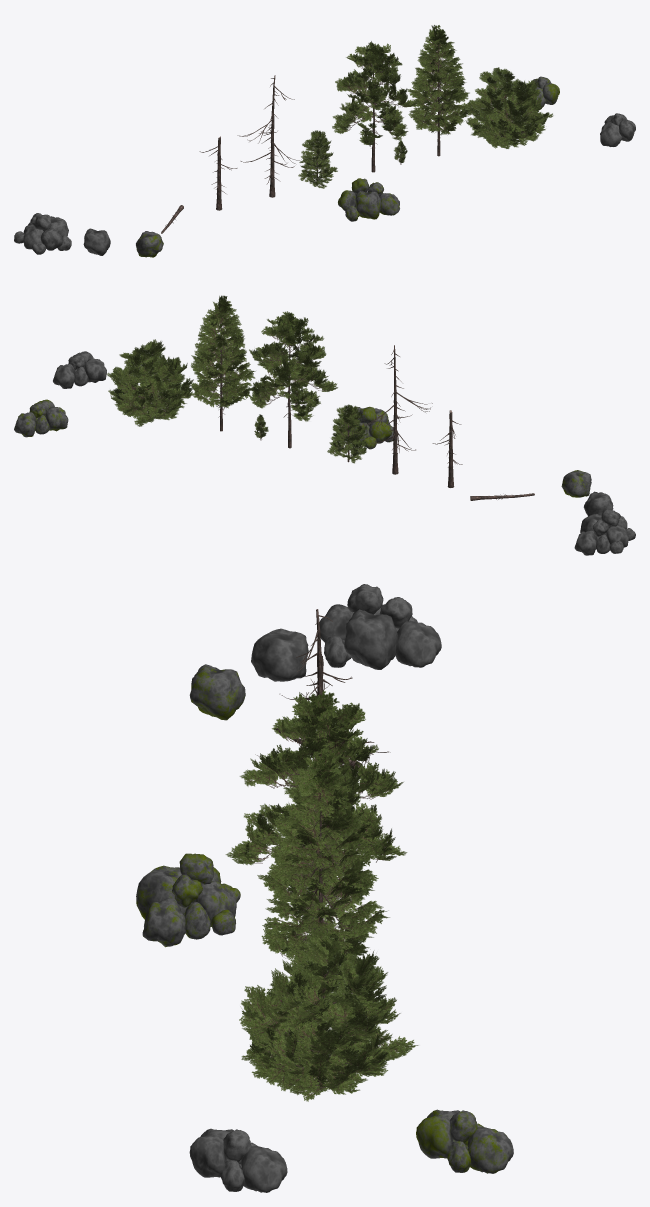
File: coniferous_pack.glb
The picture shows the model from 3 angles, top to bottom: view 1: azimuth 30°, elevation 25°; view 2: azimuth 150°, elevation 25°; view 3: azimuth 270°, elevation 25°; orthographic projection. The views are drawn at different scales.
Parts seen in each view (by area): view 1: PineTree_1, ConiferousShrub_3, FirTree_0, BoulderOutcropMossyLarge_9, BoulderOutcropPlainLarge_11, NobleFirTree_2, BoulderOutcropPlainMedium_12, Coniferous Dead Tree_6, BoulderPlainLarge_13, BoulderMossyLarge_8, BoulderOutcropMossyMedium_10, Coniferous Dead Tree 2_7; view 2: PineTree_1, FirTree_0, ConiferousShrub_3, BoulderOutcropPlainLarge_11, NobleFirTree_2, BoulderOutcropMossyMedium_10, BoulderOutcropPlainMedium_12, BoulderOutcropMossyLarge_9, Coniferous Dead Tree_6, BoulderMossyLarge_8, BoulderPlainLarge_13, Coniferous Dead Tree 2_7; view 3: ConiferousShrub_3, FirTree_0, PineTree_1, BoulderOutcropPlainLarge_11, BoulderOutcropMossyLarge_9, BoulderOutcropPlainMedium_12, BoulderOutcropMossyMedium_10, BoulderPlainLarge_13, BoulderMossyLarge_8.
Boxes of the visible parts, left/top/right/bottom form: PineTree_1: left=332, top=41, right=418, bottom=172; ConiferousShrub_3: left=461, top=67, right=553, bottom=148; FirTree_0: left=408, top=25, right=470, bottom=156; BoulderOutcropMossyLarge_9: left=338, top=178, right=399, bottom=221; BoulderOutcropPlainLarge_11: left=14, top=213, right=71, bottom=254; NobleFirTree_2: left=298, top=130, right=337, bottom=188; BoulderOutcropPlainMedium_12: left=600, top=113, right=635, bottom=146; Coniferous Dead Tree_6: left=237, top=75, right=301, bottom=197; BoulderPlainLarge_13: left=83, top=228, right=110, bottom=255; BoulderMossyLarge_8: left=136, top=231, right=163, bottom=257; BoulderOutcropMossyMedium_10: left=526, top=76, right=559, bottom=110; Coniferous Dead Tree 2_7: left=199, top=136, right=237, bottom=210; PineTree_1: left=246, top=311, right=337, bottom=448; FirTree_0: left=190, top=295, right=255, bottom=431; ConiferousShrub_3: left=107, top=339, right=193, bottom=426; BoulderOutcropPlainLarge_11: left=574, top=509, right=635, bottom=555; NobleFirTree_2: left=327, top=404, right=367, bottom=463; BoulderOutcropMossyMedium_10: left=14, top=399, right=68, bottom=437; BoulderOutcropPlainMedium_12: left=53, top=351, right=106, bottom=388; BoulderOutcropMossyLarge_9: left=342, top=406, right=393, bottom=449; Coniferous Dead Tree_6: left=361, top=345, right=432, bottom=474; BoulderMossyLarge_8: left=561, top=470, right=591, bottom=497; BoulderPlainLarge_13: left=583, top=491, right=613, bottom=516; Coniferous Dead Tree 2_7: left=432, top=410, right=462, bottom=487; ConiferousShrub_3: left=239, top=928, right=418, bottom=1101; FirTree_0: left=257, top=747, right=389, bottom=962; PineTree_1: left=225, top=688, right=407, bottom=919; BoulderOutcropPlainLarge_11: left=319, top=584, right=441, bottom=669; BoulderOutcropMossyLarge_9: left=136, top=853, right=240, bottom=947; BoulderOutcropPlainMedium_12: left=189, top=1128, right=287, bottom=1192; BoulderOutcropMossyMedium_10: left=416, top=1109, right=513, bottom=1173; BoulderPlainLarge_13: left=251, top=628, right=308, bottom=681; BoulderMossyLarge_8: left=189, top=664, right=245, bottom=720.
Bounding box in the file's own units: 80.07 × 18.97 × 22.68.
9 materials, 9 textured.
